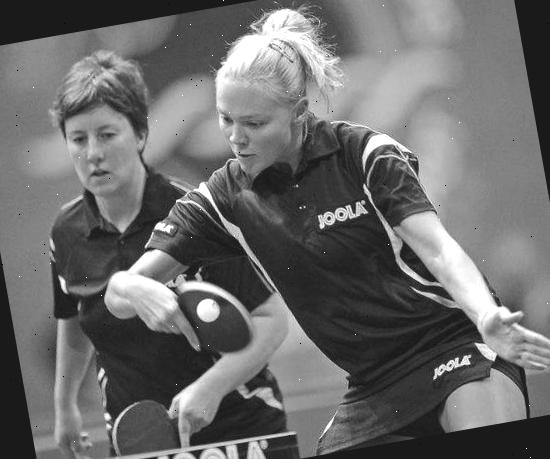ball: (190, 292, 222, 327)
